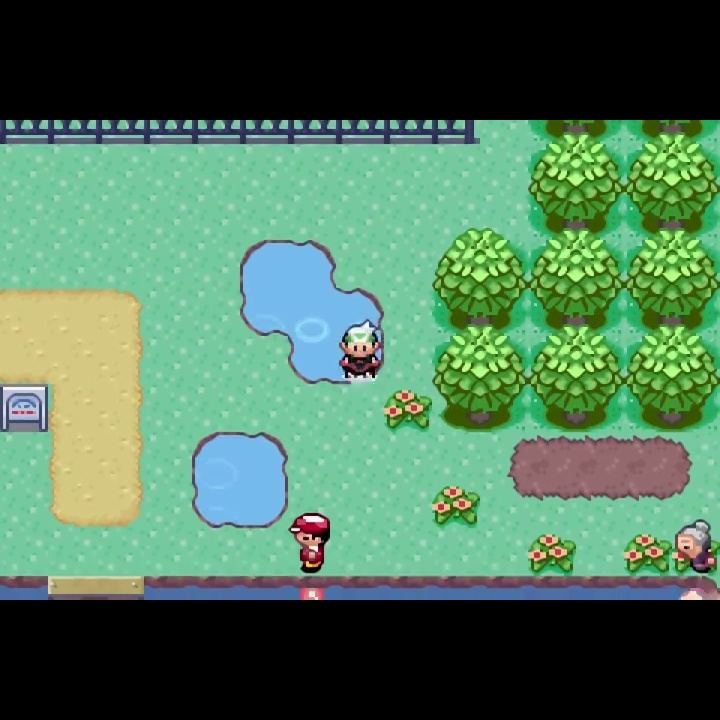npc: (671, 519, 720, 577), (339, 319, 381, 384), (287, 511, 329, 575)
wall: (529, 325, 625, 434), (625, 325, 720, 435), (433, 325, 528, 432), (433, 224, 529, 329), (625, 223, 720, 328), (529, 223, 623, 327), (528, 133, 625, 225), (624, 131, 720, 223), (626, 119, 720, 145), (527, 121, 626, 145)
